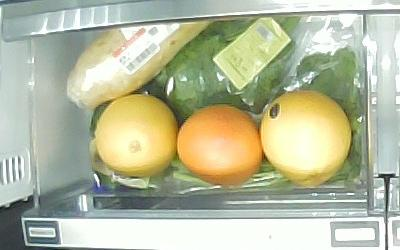grapefruit: (260, 90, 351, 187), (95, 94, 180, 176), (177, 105, 263, 184)
